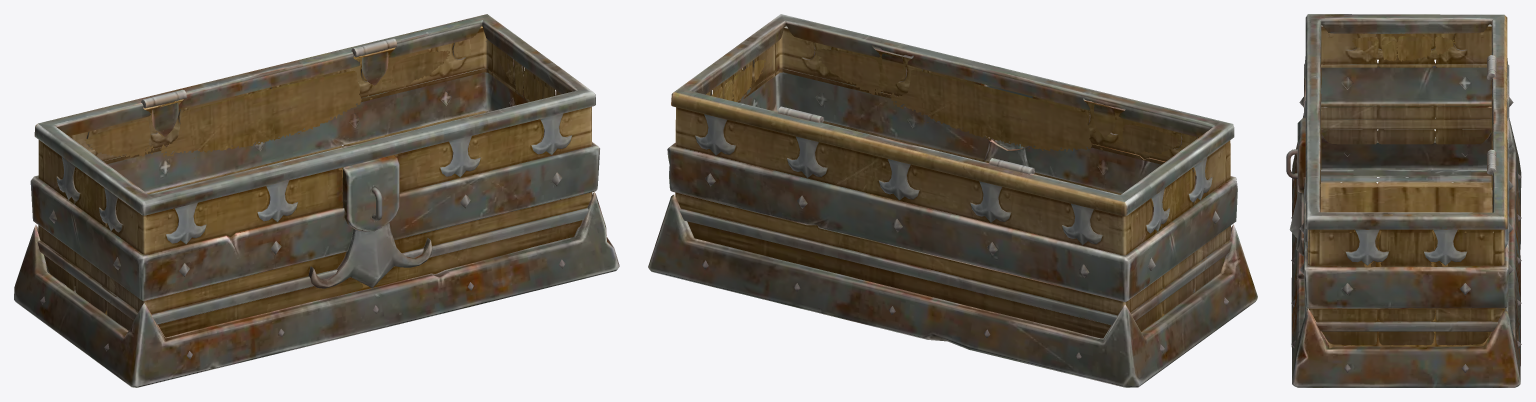
3 renders of one model, left to right at view 1: azimuth 30°, elevation 25°; view 2: azimuth 150°, elevation 25°; view 3: azimuth 270°, elevation 25°, orthographic. The views are drawn at different scales.
Parts seen in each view (by area): view 1: SM_Loot_Chest_Base_01_LOD0; view 2: SM_Loot_Chest_Base_01_LOD0; view 3: SM_Loot_Chest_Base_01_LOD0.
Part boxes in pixels (x1,y1,x2,y2): SM_Loot_Chest_Base_01_LOD0: (14, 14, 619, 387); SM_Loot_Chest_Base_01_LOD0: (648, 14, 1257, 387); SM_Loot_Chest_Base_01_LOD0: (1286, 14, 1521, 387).
Size of the model in its own units: 1.83 by 0.6516 by 0.8302.
1 material, 1 textured.
